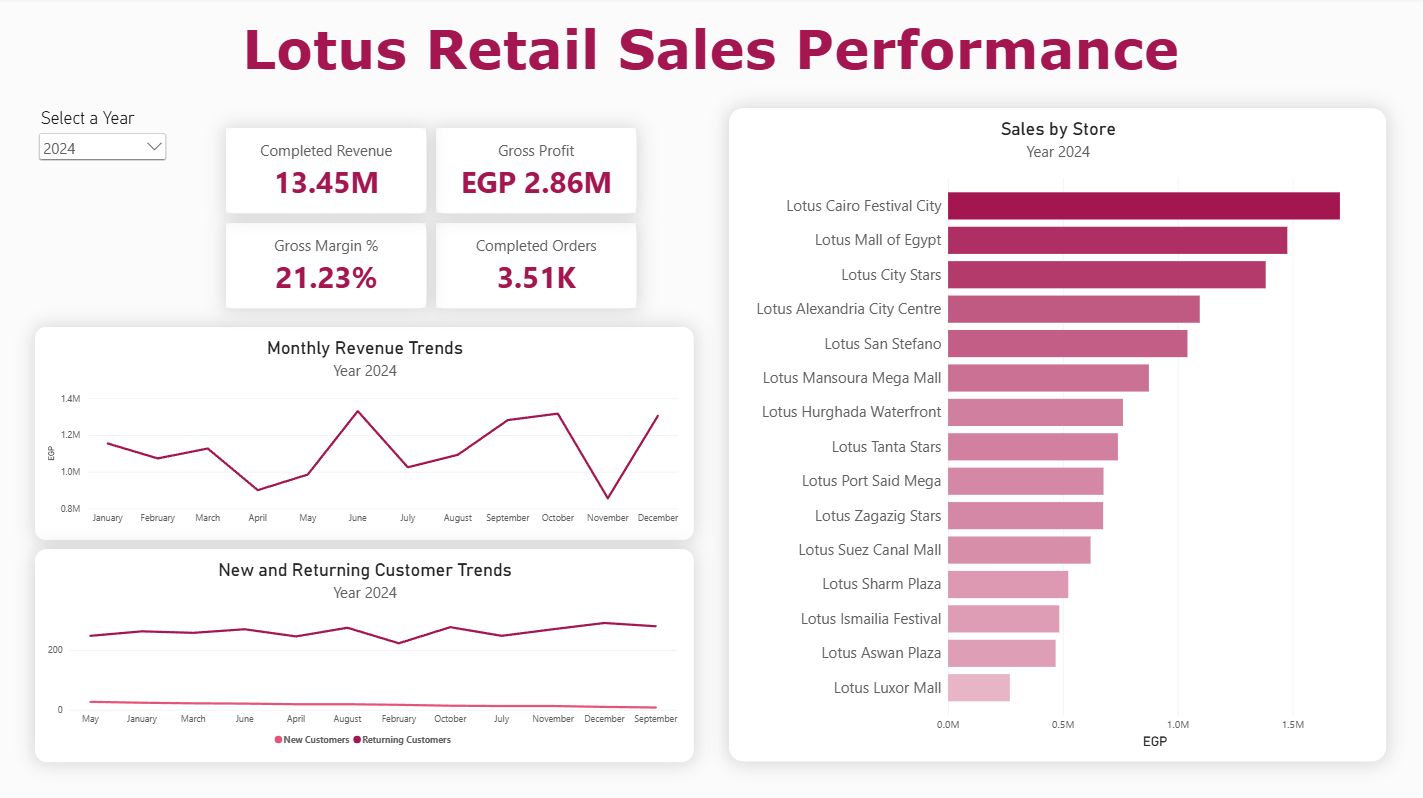

The dashboard page shown, as its layout file describes it:
{"tool":"powerbi","page":{"name":"Page 1","canvas":[1920,1080],"ordinal":0},"visuals":[{"type":"lineChart","title":"Monthly Revenue Trends","fields":{"Category":["fact_orders.Order Date.Variation.Date Hierarchy.Month"],"Y":["Sum(fact_orders.Total Revenue)"]},"box":[50,445,886.7,286.7],"z":0},{"type":"slicer","fields":{"Values":["dim_date.Year"]},"box":[50,150,181.7,78.3],"z":1000},{"type":"barChart","title":"Sales by Store","fields":{"Category":["dim_stores.Store Name"],"Y":["Sum(fact_orders.Total Revenue)"]},"box":[985,150,885,880],"z":2000},{"type":"lineChart","title":"New and Returning Customer Trends","fields":{"Category":["dim_date.Month Name"],"Y":["fact_orders.New Customers","fact_orders.Returning Customers (Display)"]},"box":[50,743.3,886.7,286.7],"z":3000},{"type":"cardVisual","fields":{"Data":["fact_orders.Completed Orders"]},"box":[590,304,270,115],"z":4000},{"type":"cardVisual","fields":{"Data":["fact_orders.Gross Profit"]},"box":[590,177,270,115],"z":5000},{"type":"cardVisual","fields":{"Data":["fact_orders.Gross Margin %"]},"box":[307,304,270,115],"z":6000},{"type":"textbox","box":[0,26,1920,98.3],"z":7000},{"type":"cardVisual","fields":{"Data":["fact_orders.Completed Revenue"]},"box":[306.7,176.7,270,115],"z":8000}]}

Visuals, with their boxes in screenshot pixels (x1, y1, x2, y2), scaled from the page's 1920x1080 canvas onto the 1423x798 screenshot:
"Monthly Revenue Trends" lineChart: bbox=(37, 329, 694, 541)
slicer - dim_date.Year: bbox=(37, 111, 172, 169)
"Sales by Store" barChart: bbox=(730, 111, 1386, 761)
"New and Returning Customer Trends" lineChart: bbox=(37, 549, 694, 761)
cardVisual - fact_orders.Completed Orders: bbox=(437, 225, 637, 310)
cardVisual - fact_orders.Gross Profit: bbox=(437, 131, 637, 216)
cardVisual - fact_orders.Gross Margin %: bbox=(228, 225, 428, 310)
textbox: bbox=(0, 19, 1422, 92)
cardVisual - fact_orders.Completed Revenue: bbox=(227, 131, 427, 216)
